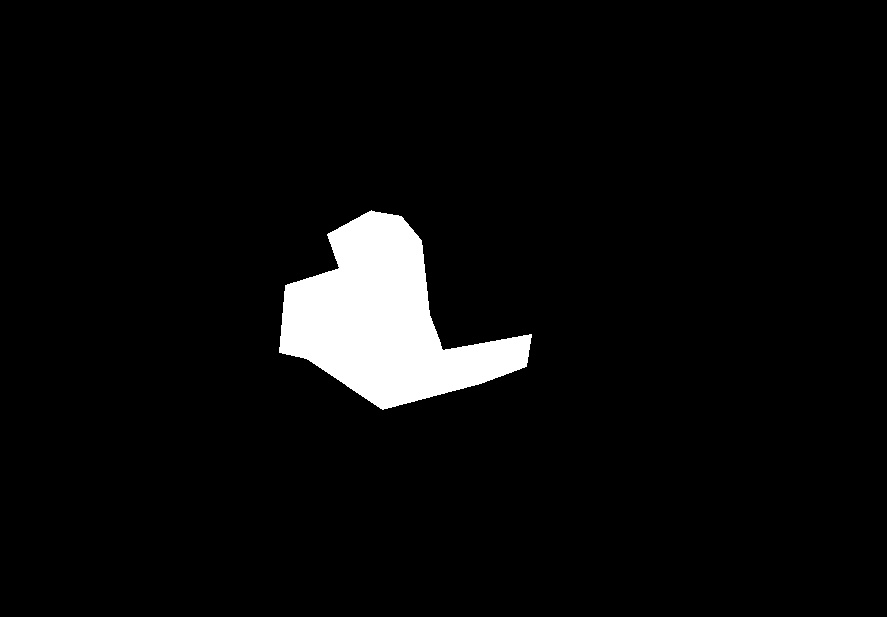Fire: (341, 216, 428, 311)
